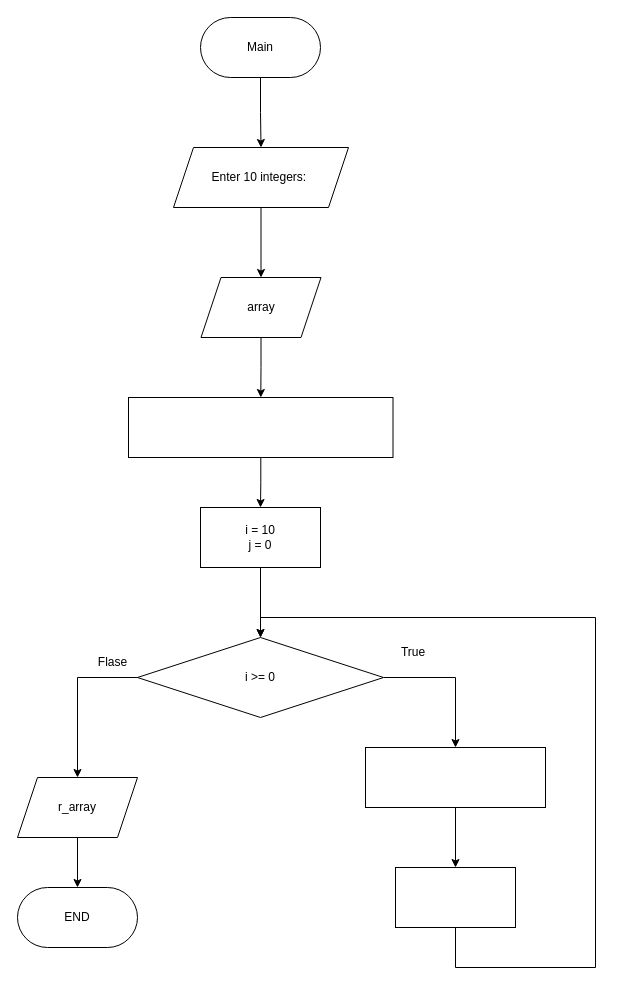
The diagram is 621 pixels wide and 993 high, and some of its shapes have lost their labels. Here are the shapes that lost their labels. From the top down, the centre of each, then its label:
At [260,427]: "r_array <-- empty array with length 10".
At [455,777]: "r_array[j] = array[i]".
At [455,897]: "i = i - 1 j = j + 1".
